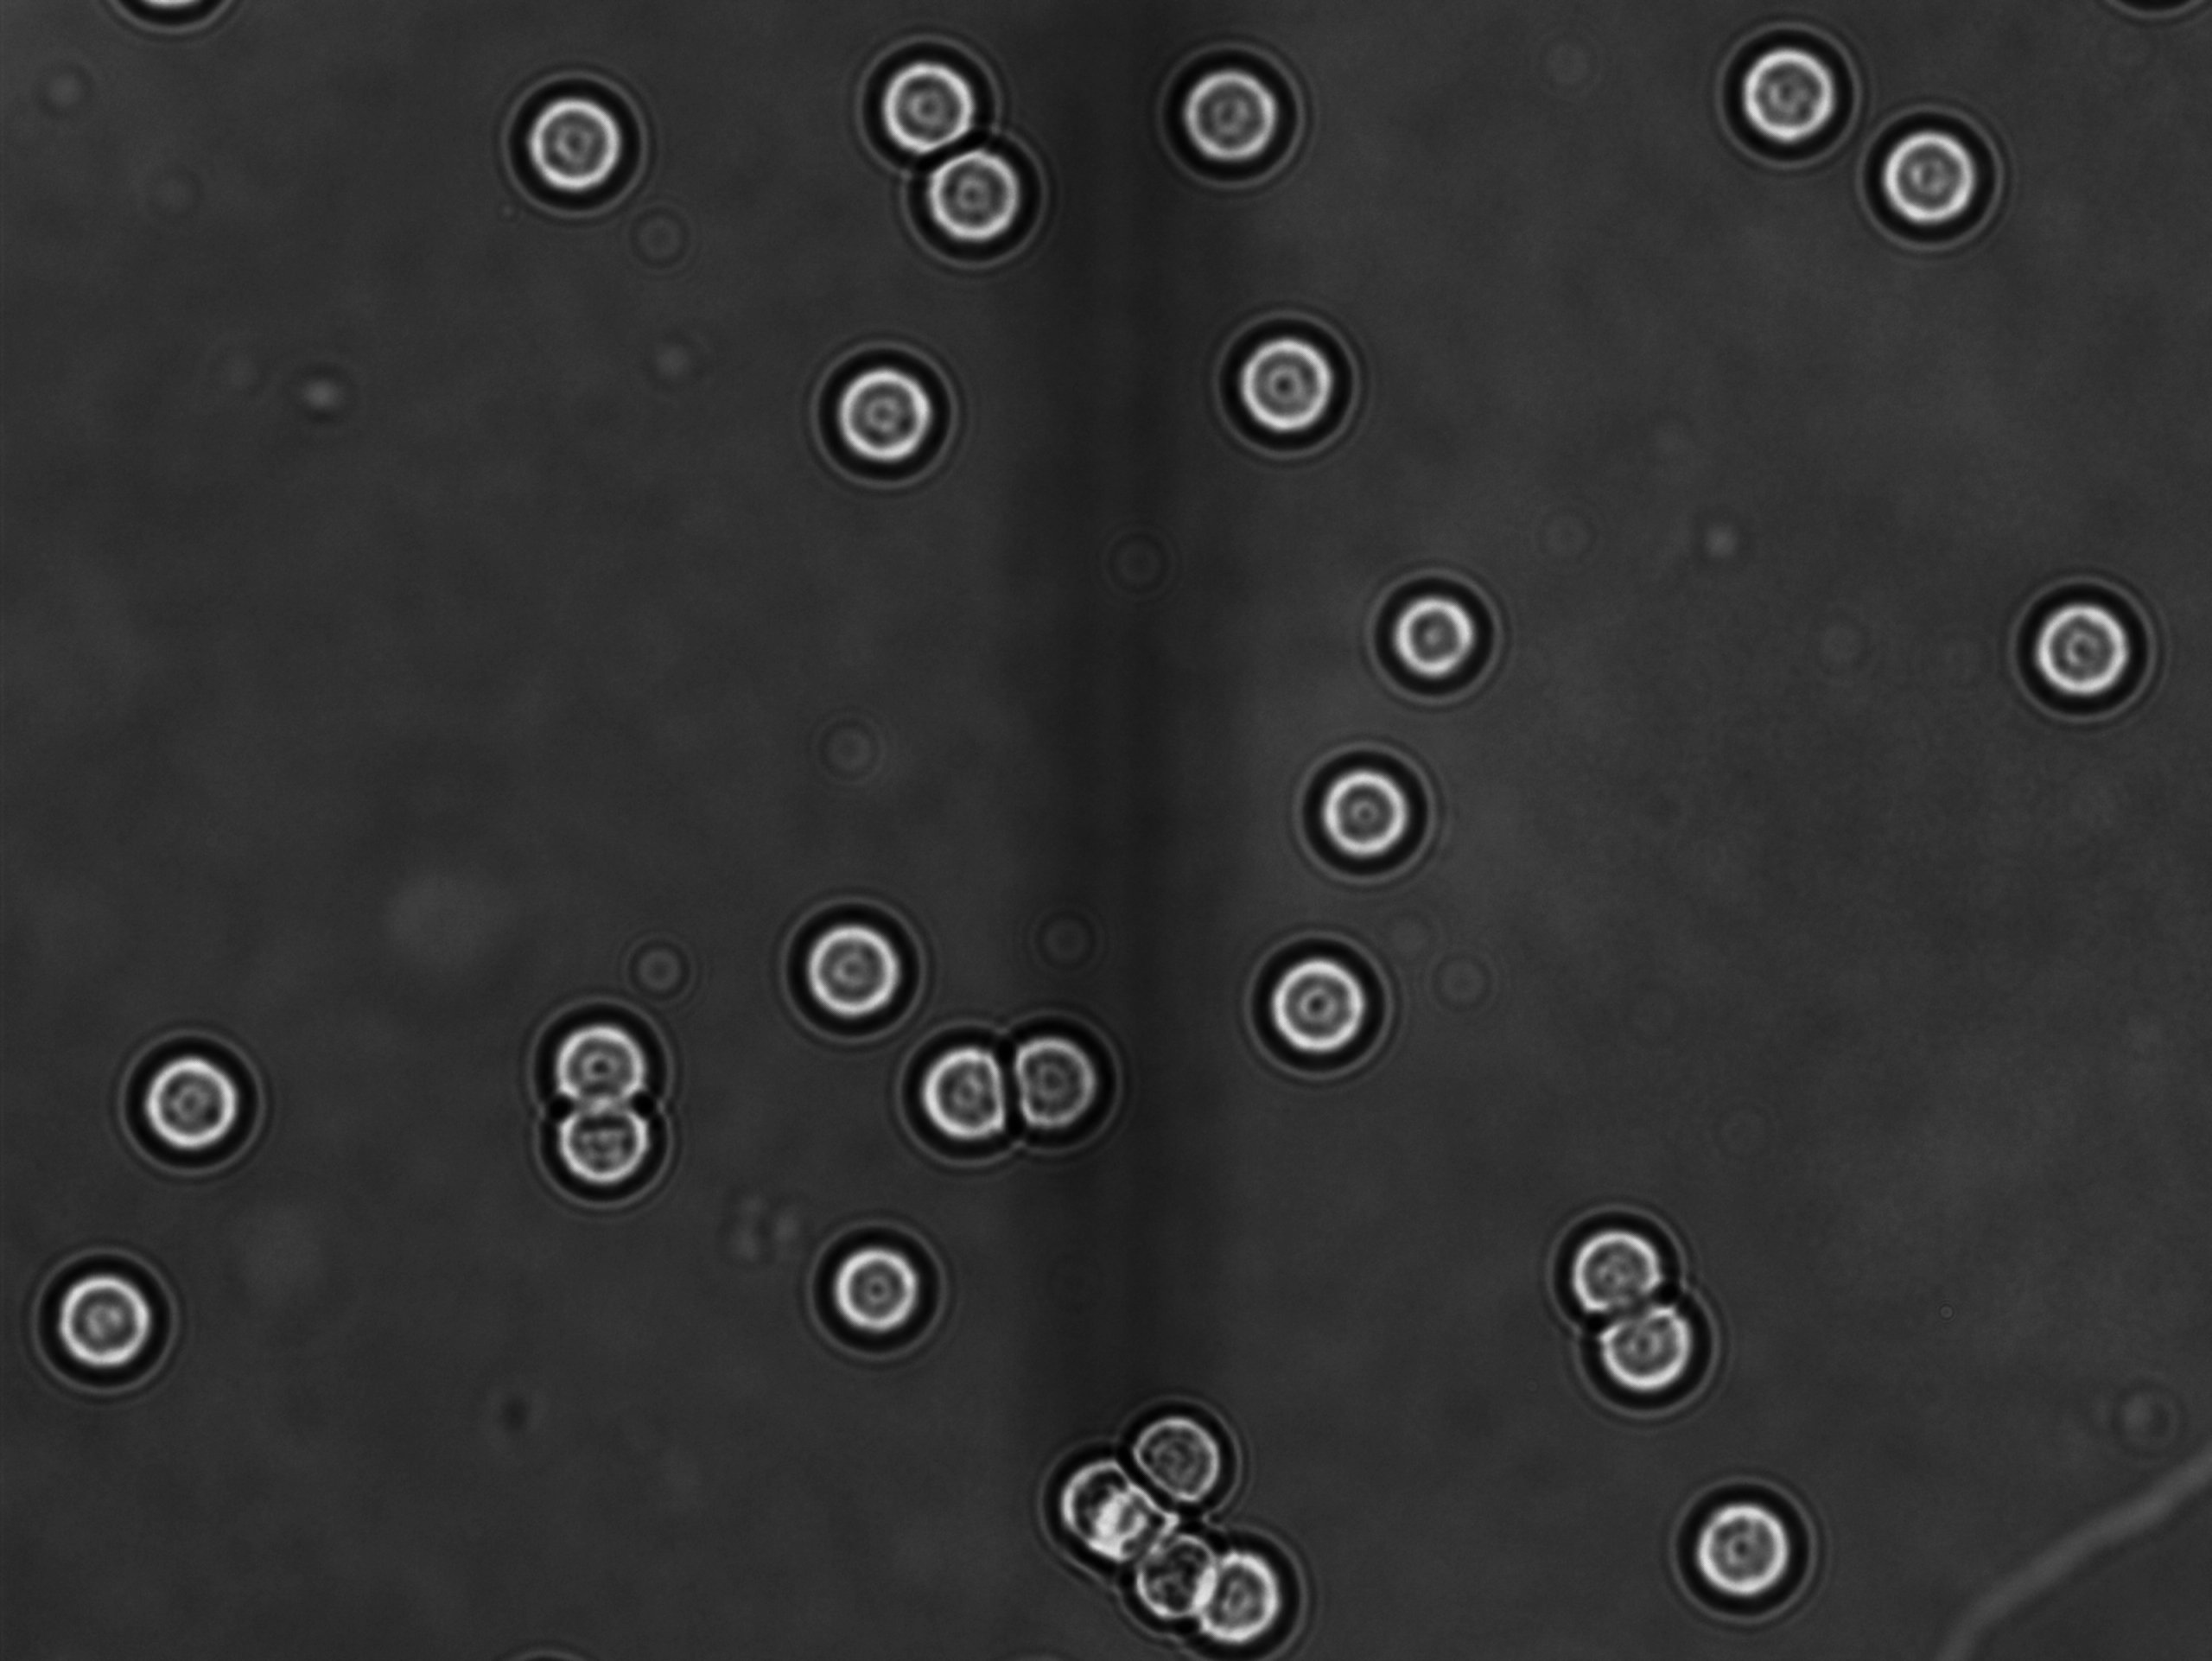depth:20: (1703, 16, 1905, 190), (1347, 550, 1533, 729), (1235, 923, 1420, 1094), (761, 862, 935, 1042), (2001, 558, 2174, 740), (99, 1015, 276, 1192), (1846, 101, 2022, 274), (21, 1239, 206, 1403), (891, 1015, 1057, 1185), (509, 984, 696, 1132), (1664, 1460, 1833, 1623), (977, 1003, 1143, 1165), (795, 328, 963, 489), (881, 117, 1052, 274), (782, 1202, 940, 1366), (844, 31, 1014, 185), (1198, 314, 1369, 466), (494, 68, 654, 227), (1537, 1190, 1706, 1340), (1580, 1275, 1750, 1425), (534, 1080, 705, 1228), (1277, 731, 1430, 892), (1160, 47, 1321, 199)
